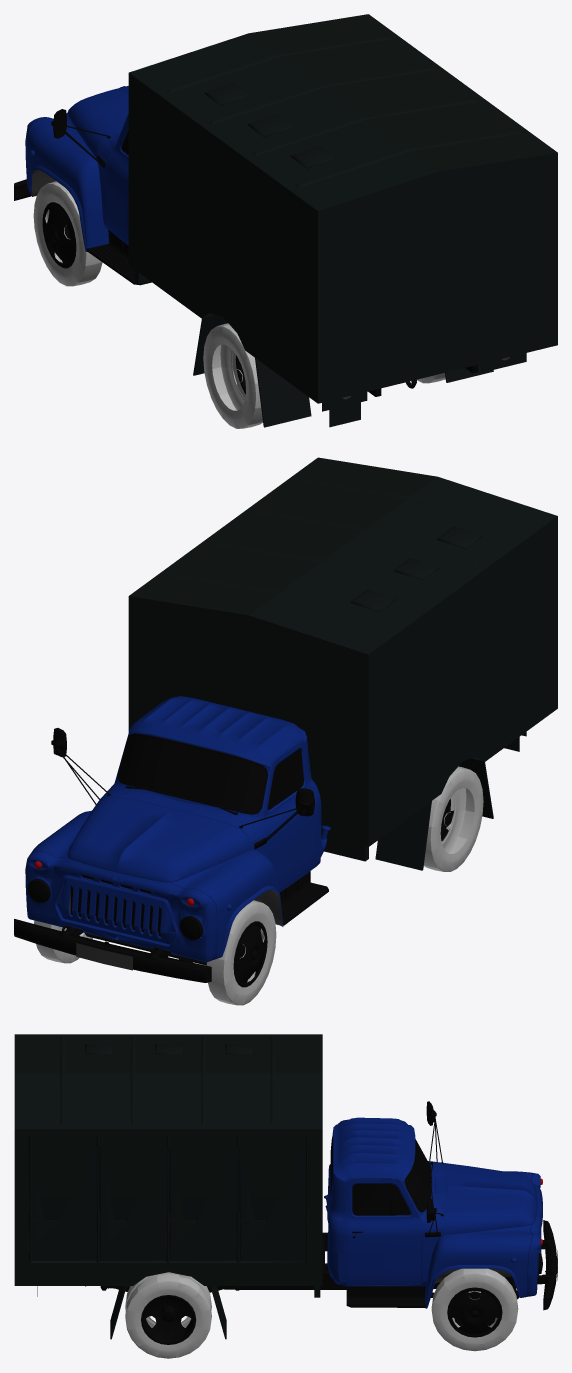
File: bigTruck.FBX
3 renders of one model, top to bottom at view 1: azimuth 30°, elevation 25°; view 2: azimuth 150°, elevation 25°; view 3: azimuth 270°, elevation 25°, orthographic. The views are drawn at different scales.
Parts seen in each view (by area): view 1: kuzov, cabina, wheel_rb_w, wheel01, bonnet_ok, door_lf_ok, Object06, chassis, interior; view 2: kuzov, cabina, FRNT_Latti, bonnet_ok, windscreen, wheel_rb_w, door_lf_ok, bump_front, wheel01, interior, chassis, Object06 (+4 smaller); view 3: kuzov, cabina, door_rf_ok, bonnet_ok, wheel, wheel_rb, chassis, Object03, Object04, Object02, FRNT_Latti, windscreen (+3 smaller).
Part boxes in pixels (box(x1,y1,x2,y2)): kuzov: box(128, 14, 557, 427); cabina: box(27, 113, 128, 251); wheel_rb_w: box(203, 323, 262, 428); wheel01: box(33, 181, 102, 286); bonnet_ok: box(68, 86, 128, 156); door_lf_ok: box(106, 117, 128, 244); Object06: box(42, 202, 76, 268); chassis: box(86, 230, 478, 396); interior: box(51, 109, 128, 168); kuzov: box(128, 457, 557, 870); cabina: box(30, 696, 330, 959); FRNT_Latti: box(25, 851, 216, 962); bonnet_ok: box(68, 796, 251, 882); windscreen: box(119, 735, 265, 812); wheel_rb_w: box(423, 766, 483, 871); door_lf_ok: box(263, 742, 316, 891); bump_front: box(14, 919, 211, 982); wheel01: box(206, 900, 276, 1005); interior: box(51, 728, 314, 849); chassis: box(66, 871, 328, 965); Object06: box(233, 921, 267, 987); kuzov: box(14, 1034, 322, 1339); cabina: box(324, 1117, 532, 1308); door_rf_ok: box(347, 1179, 421, 1285); bonnet_ok: box(444, 1163, 537, 1234); wheel: box(431, 1268, 518, 1351); wheel_rb: box(125, 1274, 211, 1358); chassis: box(85, 1232, 545, 1307); Object03: box(447, 1287, 502, 1337); Object04: box(141, 1295, 196, 1344); Object02: box(352, 1184, 409, 1215); FRNT_Latti: box(527, 1172, 542, 1296); windscreen: box(406, 1139, 430, 1210).
Bounding box in the file's own units: 104 × 113 × 231.
